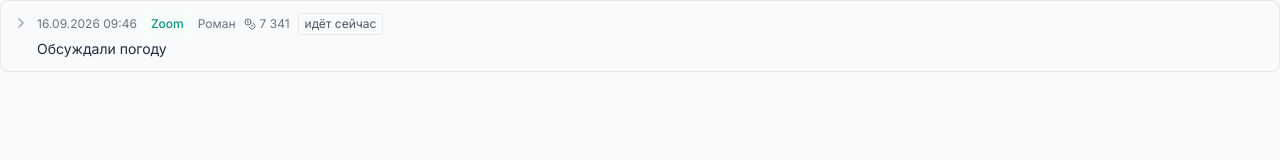
Test: CallSessionItem › ответ устаревшего запроса не затирает свежий
Click the button: (87,24) [13,13,383,57]
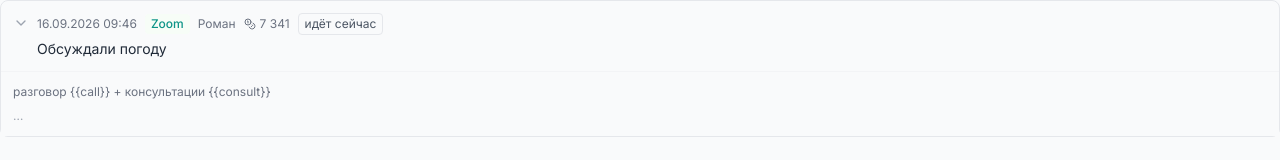
Click the button: (87,24) [13,13,383,57]
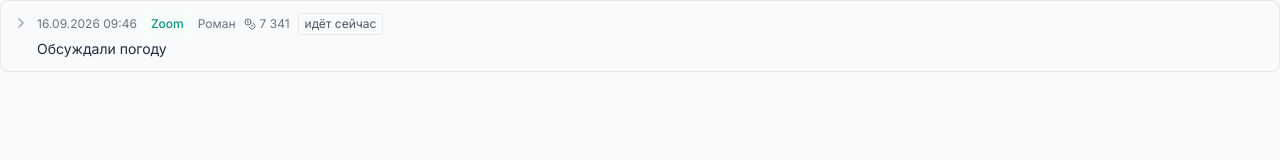
Click the button: (87,24) [13,13,383,57]
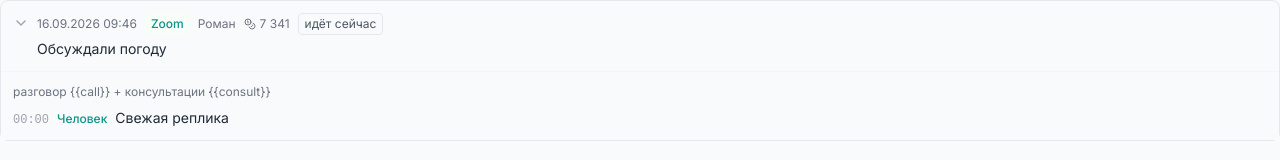
Result: the text "Свежая реплика" is shown at [115,109,229,126]
